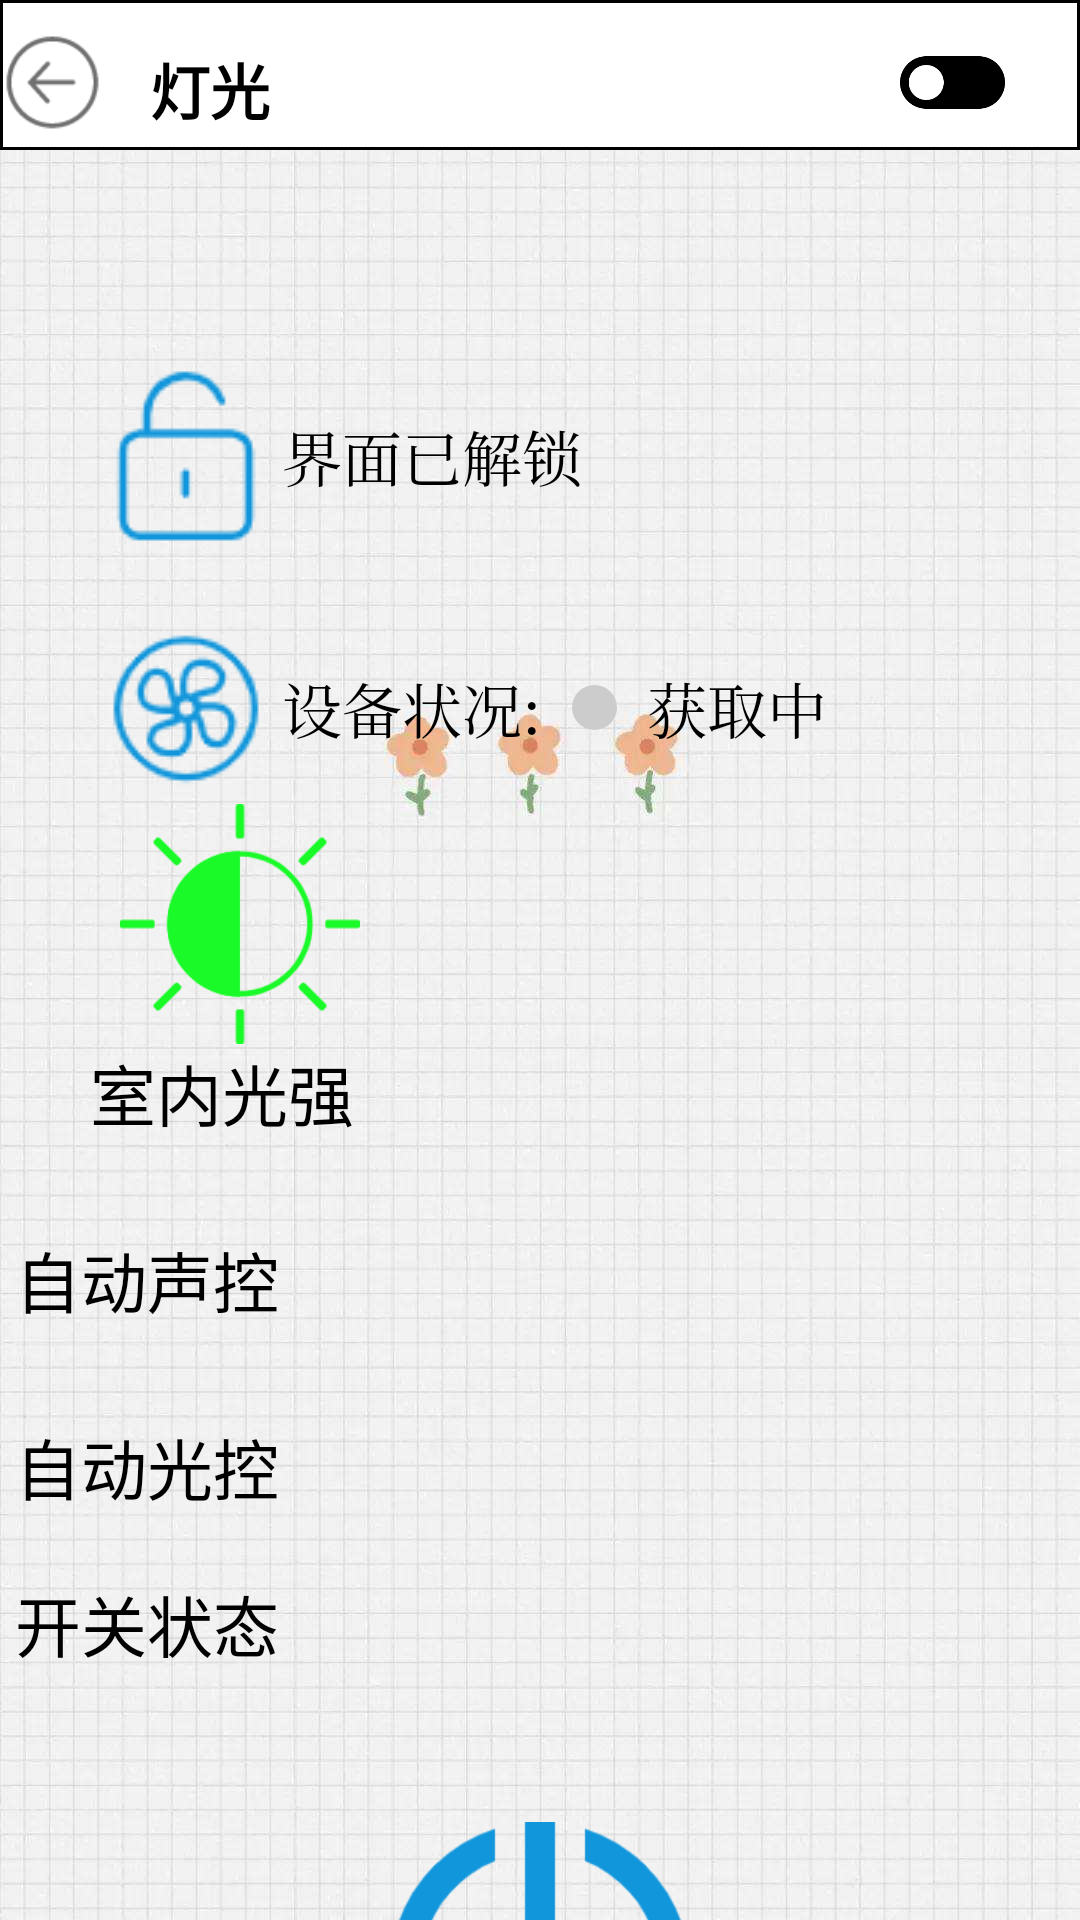

Named icons in this screenshot (1080px x 1920px) and their bounding boxes, (x1, y1, x2, y2):
fan: (97, 629, 272, 803)
unlock: (97, 371, 270, 541)
